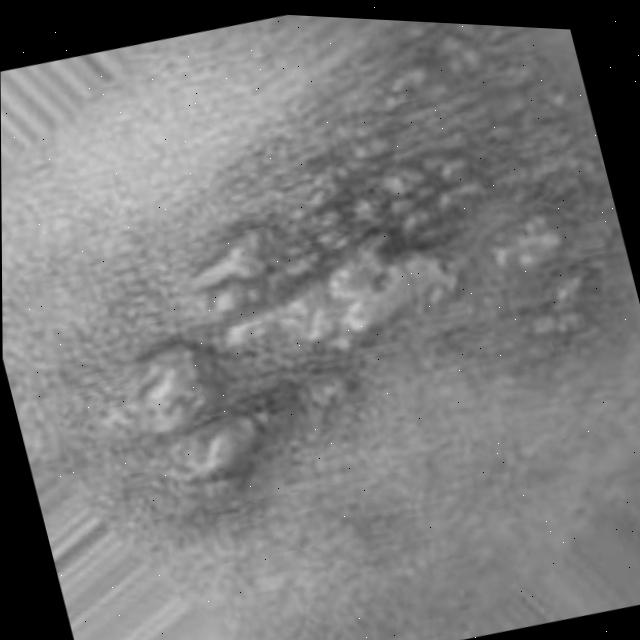Shingles: (82, 89, 633, 513)
